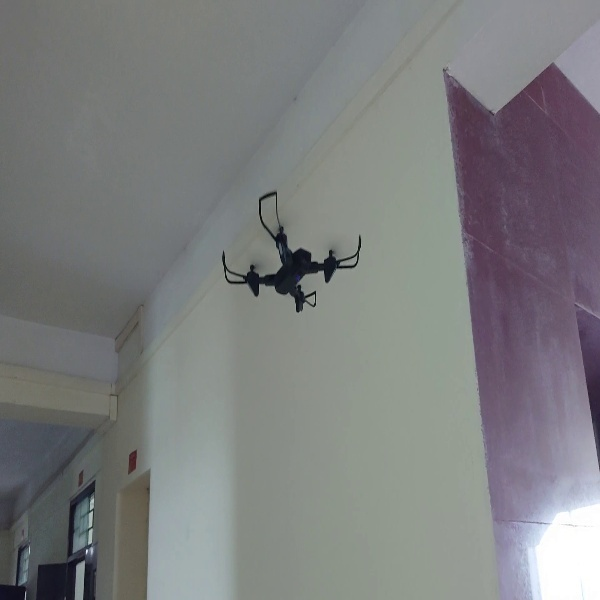drone: (221, 189, 363, 315)
